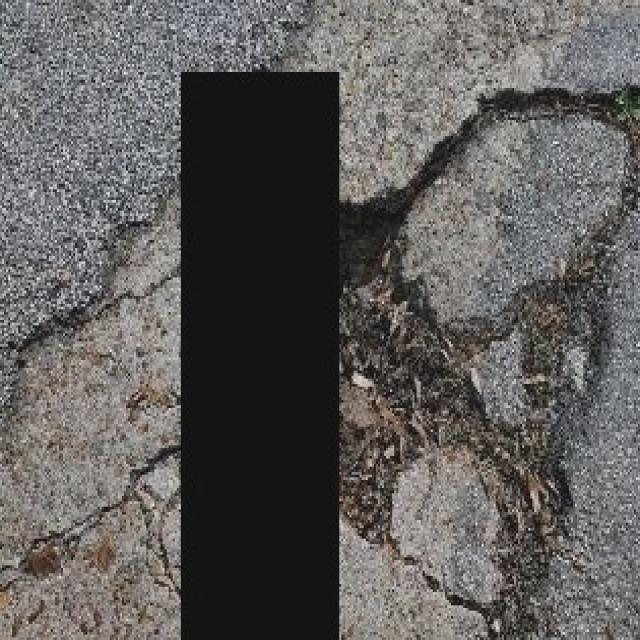road-pothole: (338, 86, 638, 637), (2, 174, 177, 637)
